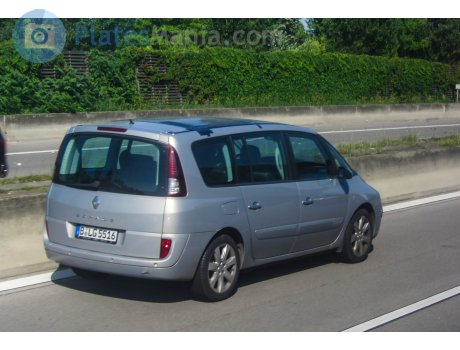License Plates: (74, 221, 117, 237)
